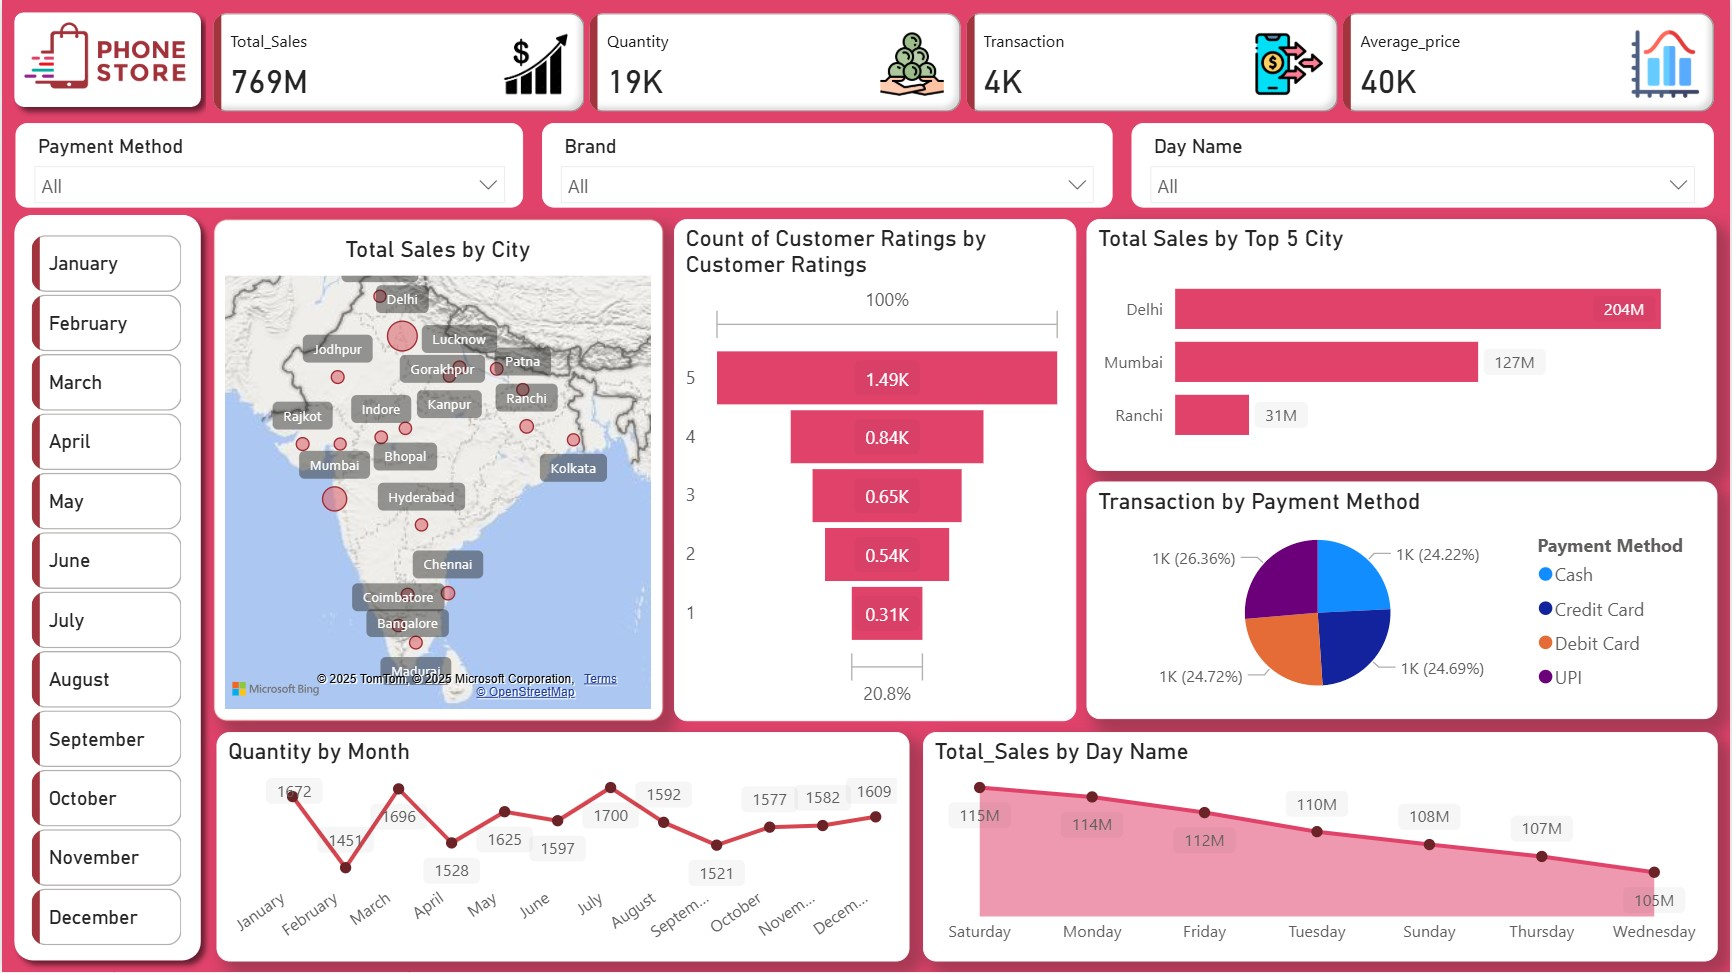

The dashboard page shown, as its layout file describes it:
{"tool":"powerbi","page":{"name":"Page 1","canvas":[1280,720],"ordinal":0},"visuals":[{"type":"shape","box":[0,0,156.4,88.2],"z":0},{"type":"shape","box":[0,150,156.3,570.5],"z":1000},{"type":"advancedSlicerVisual","fields":{"Values":["Sheet1.Date.Variation.Date Hierarchy.Month"]},"box":[17.2,168.8,121.9,536.1],"z":2000},{"type":"cardVisual","fields":{"Data":["Sheet1.Total_Slaes","Sheet1.Quantity","Sheet1.Transaction","Sheet1.Average_price"]},"box":[151.6,4.8,1125.8,83.9],"z":3000},{"type":"map","title":"Total Sales by City","fields":{"Category":["Sheet1.City"],"Size":["Sheet1.Total_Sales"]},"box":[156.7,161.7,333.3,371.7],"z":4000},{"type":"image","box":[0,4.5,155.5,79.1],"z":5000},{"type":"textbox","box":[163.3,168.3,319.2,35],"z":6000},{"type":"lineChart","fields":{"Category":["Sheet1.Date.Variation.Date Hierarchy.Month"],"Y":["Sheet1.Quantity"]},"box":[158.9,542.2,513.3,170],"z":7000},{"type":"barChart","title":"Total Sales by Top 5 City","fields":{"Y":["Sheet1.Total_Sales"],"Category":["Sheet1.City"]},"box":[803.3,161.7,466.7,186.7],"z":8000},{"type":"pieChart","fields":{"Y":["Sheet1.Transaction"],"Series":["Sheet1.Payment Method"]},"box":[802.9,357.1,467.1,175.7],"z":9000},{"type":"funnel","fields":{"Category":["Sheet1.Customer Ratings"],"Y":["CountNonNull(Sheet1.Customer Ratings)"]},"box":[498.2,161.8,298.2,371.8],"z":10000},{"type":"areaChart","fields":{"Y":["Sheet1.Total_Sales"],"Category":["Sheet1.Day Name"]},"box":[681.7,541.7,588.3,170],"z":11000},{"type":"slicer","fields":{"Values":["Sheet1.Payment Method"]},"box":[10,91.2,376.2,62.5],"z":12000},{"type":"slicer","fields":{"Values":["Sheet1.Day Name"]},"box":[836.2,91.2,431.2,62.5],"z":12001},{"type":"slicer","fields":{"Values":["Sheet1.Brand"]},"box":[400,91.2,422.5,62.5],"z":12002}]}

Visuals, with their boxes in screenshot pixels (x1, y1, x2, y2), scaled from the page's 1280x720 canvas onto the 1732x973 screenshot:
shape: detection(0, 0, 212, 119)
shape: detection(0, 203, 211, 972)
advancedSlicerVisual - Sheet1.Date.Variation.Date Hierarchy.Month: detection(23, 228, 188, 953)
cardVisual - Sheet1.Total_Slaes x Sheet1.Quantity: detection(205, 6, 1728, 120)
"Total Sales by City" map: detection(212, 219, 663, 721)
image: detection(0, 6, 210, 113)
textbox: detection(221, 227, 653, 275)
lineChart - Sheet1.Date.Variation.Date Hierarchy.Month x Sheet1.Quantity: detection(215, 733, 910, 962)
"Total Sales by Top 5 City" barChart: detection(1087, 219, 1718, 471)
pieChart - Sheet1.Transaction x Sheet1.Payment Method: detection(1086, 483, 1718, 720)
funnel - Sheet1.Customer Ratings x CountNonNull(Sheet1.Customer Ratings): detection(674, 219, 1078, 721)
areaChart - Sheet1.Total_Sales x Sheet1.Day Name: detection(922, 732, 1718, 962)
slicer - Sheet1.Payment Method: detection(14, 123, 523, 208)
slicer - Sheet1.Day Name: detection(1131, 123, 1715, 208)
slicer - Sheet1.Brand: detection(541, 123, 1113, 208)
